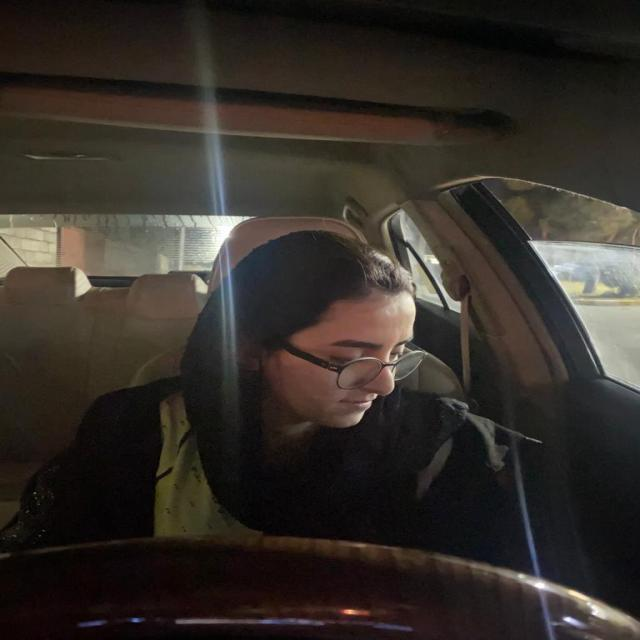drowsy: (221, 220, 445, 450)
